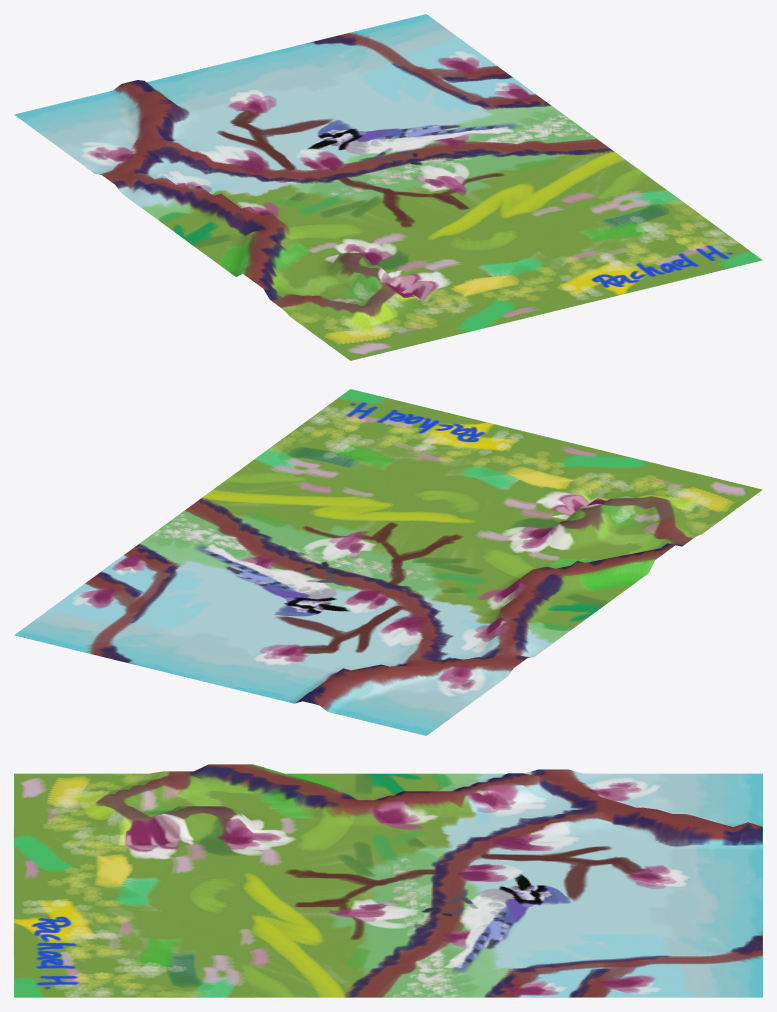
Rendered from paintingdemo.fbx.
3 renders of one model, top to bottom at view 1: azimuth 30°, elevation 25°; view 2: azimuth 150°, elevation 25°; view 3: azimuth 270°, elevation 25°, orthographic. The views are drawn at different scales.
Visible parts, largest first — view 1: pPlane1; view 2: pPlane1; view 3: pPlane1.
Boxes of the visible parts, x1,y1,x2,y2 form: pPlane1: (14, 14, 762, 360); pPlane1: (14, 389, 762, 735); pPlane1: (14, 764, 762, 997).
Size of the model in its own units: 5.26 by 0.2319 by 7.44.
1 material, 1 textured.
